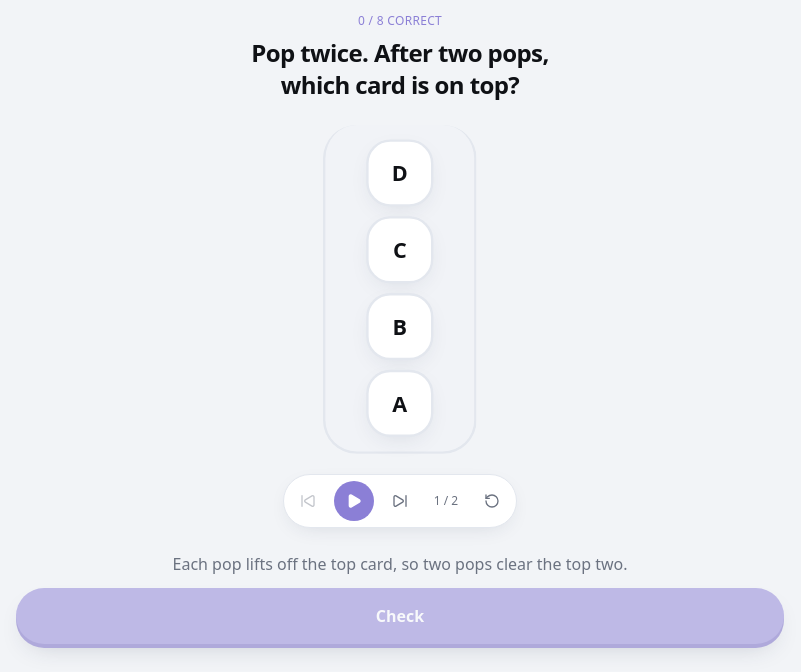
S&Q stage: de-cued stack predict › nudges the learner to commit when Play is pressed again, never replaying to the answer
# First play: the short demo runs to the predict point and stops on its own.
What coordinates should you click on to do the following:
click the button named "Play"
I would click on:
 (354, 501)
Its box is [334,481,374,521].
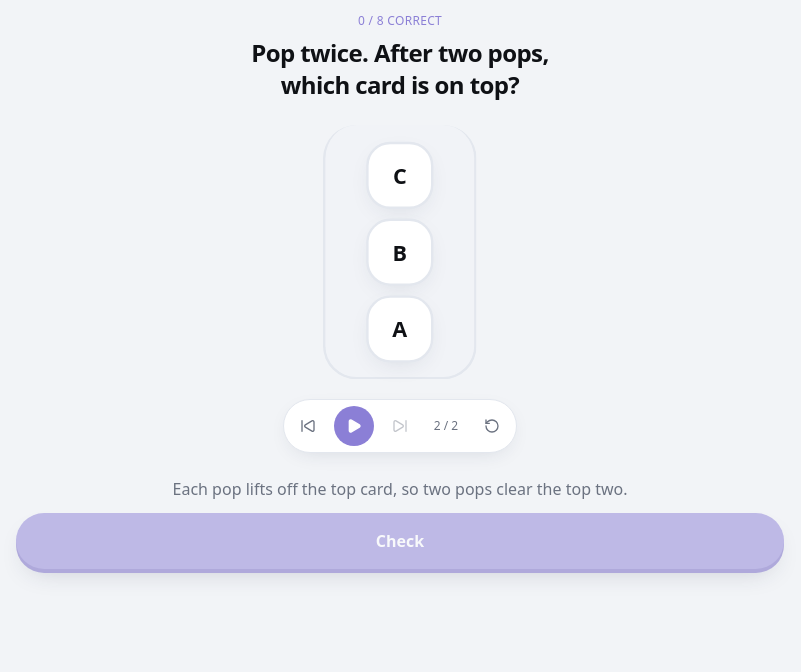
Expected: the text "Make your prediction first" is not shown
# Second play press: instead of a dead button, a friendly reminder appears.
What coordinates should you click on to do the following:
click the button named "Play"
I would click on:
 (354, 426)
Its box is [334,406,374,446].
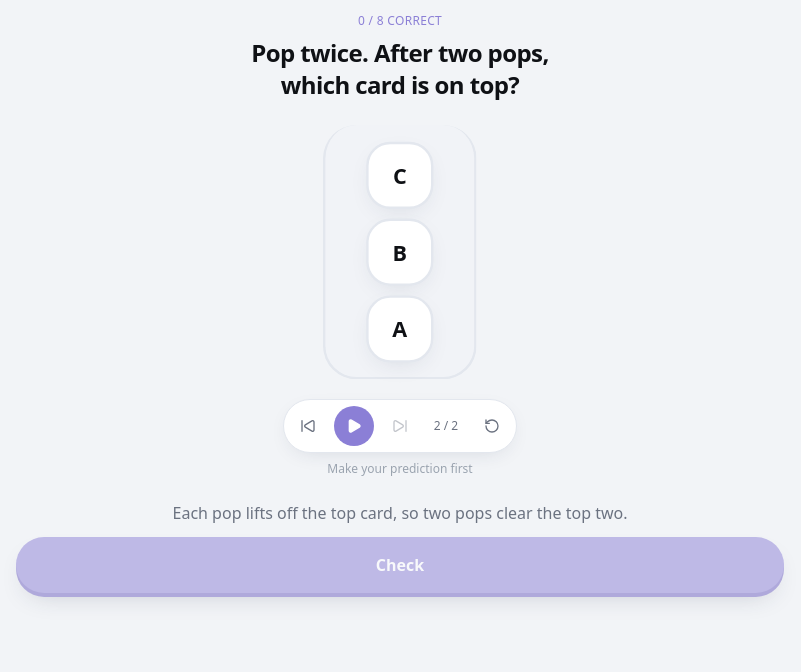
Result: the text "Make your prediction first" is shown at [327,461,473,477]
